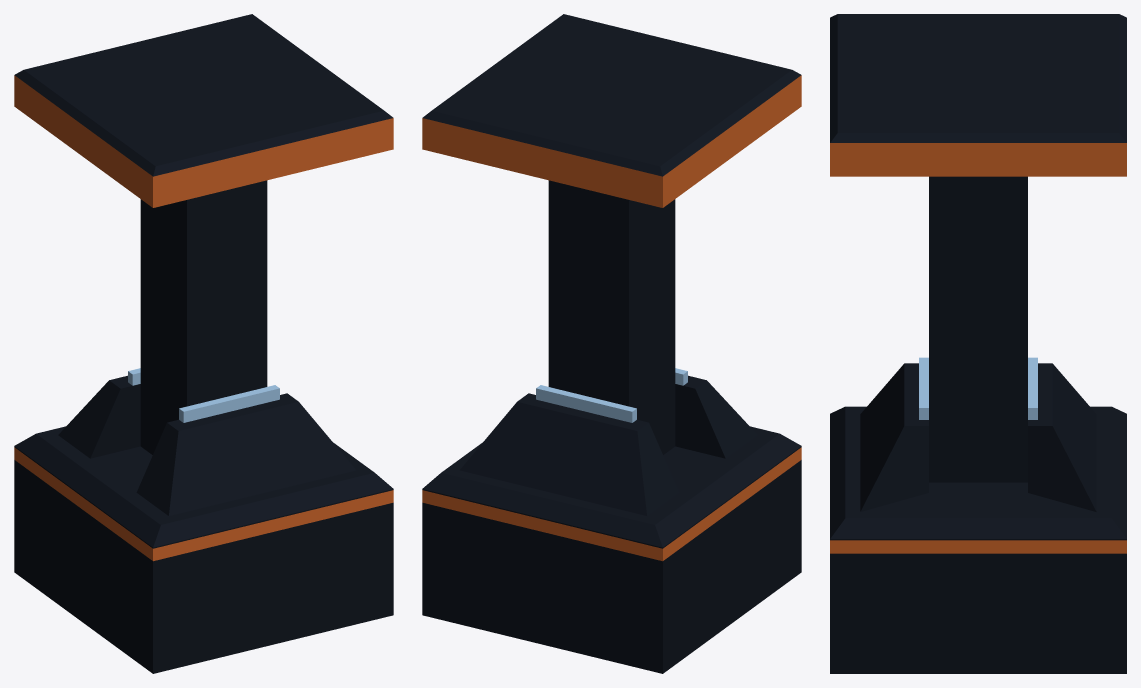
The model's file is Platform - horizontal.fbx.
The picture shows the model from 3 angles, left to right: view 1: azimuth 30°, elevation 25°; view 2: azimuth 150°, elevation 25°; view 3: azimuth 270°, elevation 25°; orthographic projection. The views are drawn at different scales.
Parts seen in each view (by area): view 1: Platform Base - Horizontal, Platform - Horizontal; view 2: Platform Base - Horizontal, Platform - Horizontal; view 3: Platform - Horizontal, Platform Base - Horizontal.
Part boxes in pixels (<box>): Platform Base - Horizontal: <box>14,368,393,673</box>; Platform - Horizontal: <box>14,14,393,454</box>; Platform Base - Horizontal: <box>422,368,801,673</box>; Platform - Horizontal: <box>422,14,801,454</box>; Platform - Horizontal: <box>830,14,1126,482</box>; Platform Base - Horizontal: <box>830,357,1126,673</box>.
Size of the model in its own units: 200 by 400 by 200.
